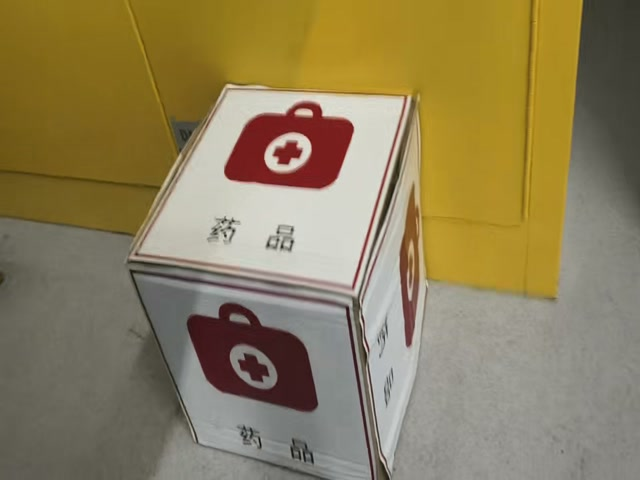Cube_medicine: (128, 86, 413, 299)
